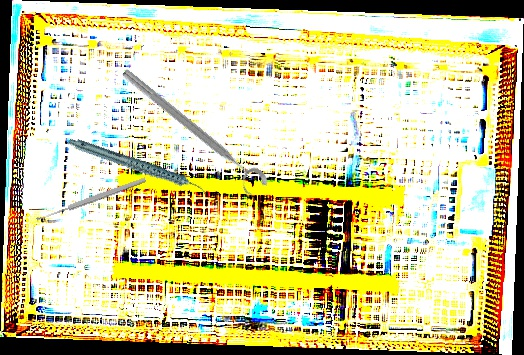Fixation Ring: (112, 64, 272, 202)
Handpiece: (67, 112, 208, 222)
Surgical Spoon: (35, 176, 147, 223)
